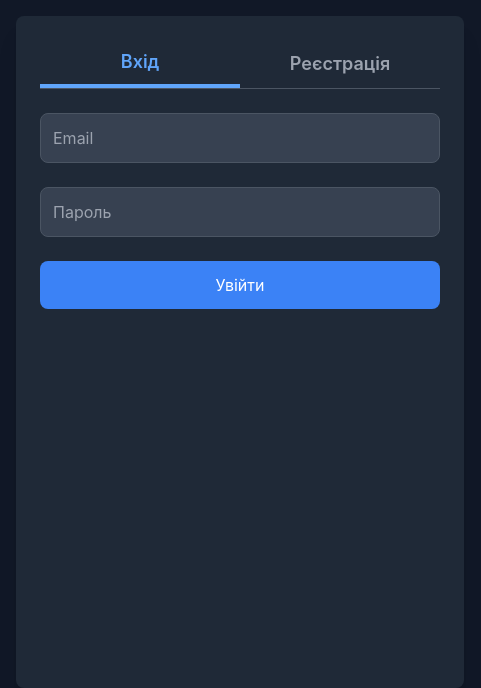
Test: AuthPage Component › switches to registration form
Click the button "Реєстрація" at (340, 64), box x1=240 y1=40 x2=440 y2=88
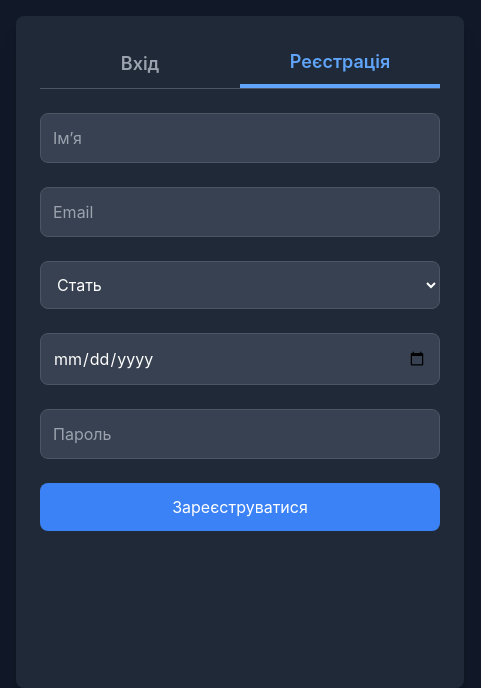
Check: the field with placeholder "Ім’я" is shown, box x1=40 y1=113 x2=440 y2=163
Check: the field with placeholder "Email" is shown, box x1=40 y1=187 x2=440 y2=237
Check: the password field with placeholder "Пароль" is shown, box x1=40 y1=409 x2=440 y2=459
